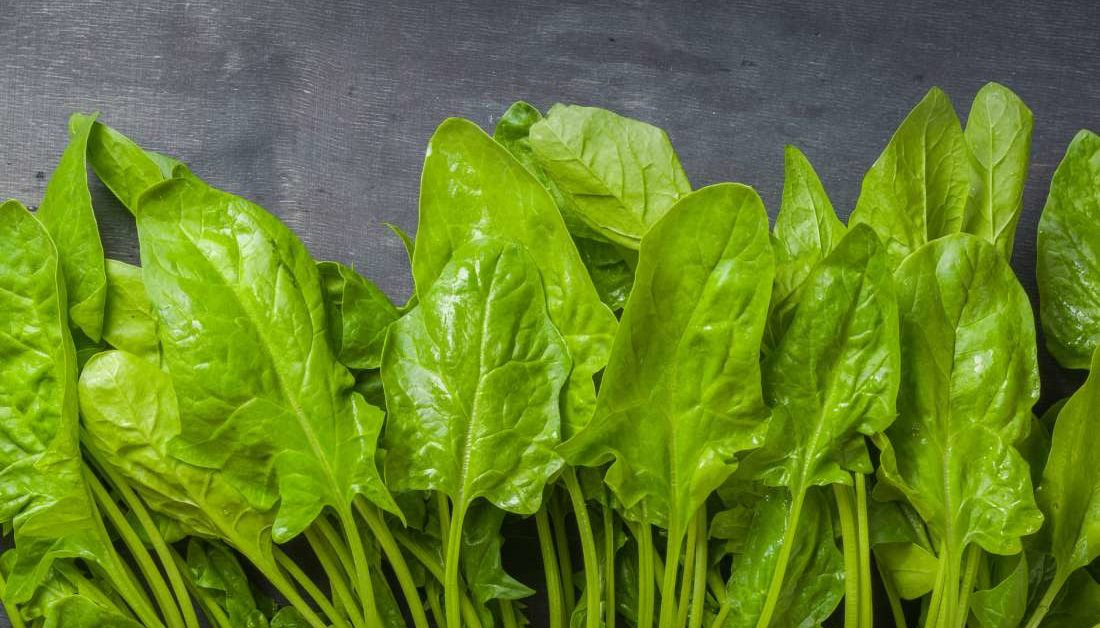Bayam: (16, 92, 1100, 616)
